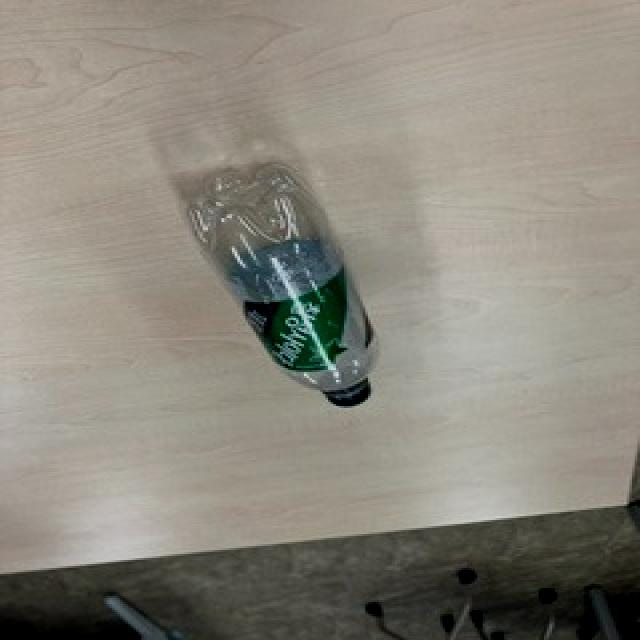bottle: (183, 158, 380, 416)
